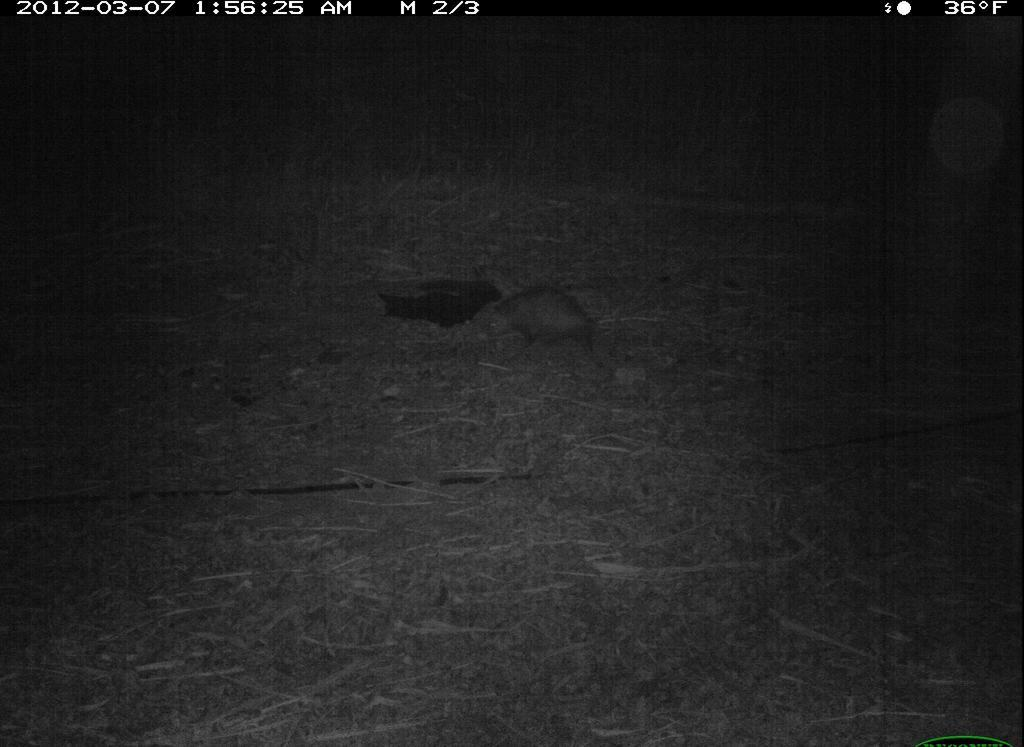opossum: (485, 273, 618, 370)
